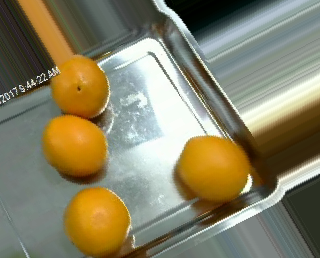Orange: (176, 135, 250, 202), (63, 186, 131, 255), (42, 114, 108, 175), (50, 53, 109, 116)
